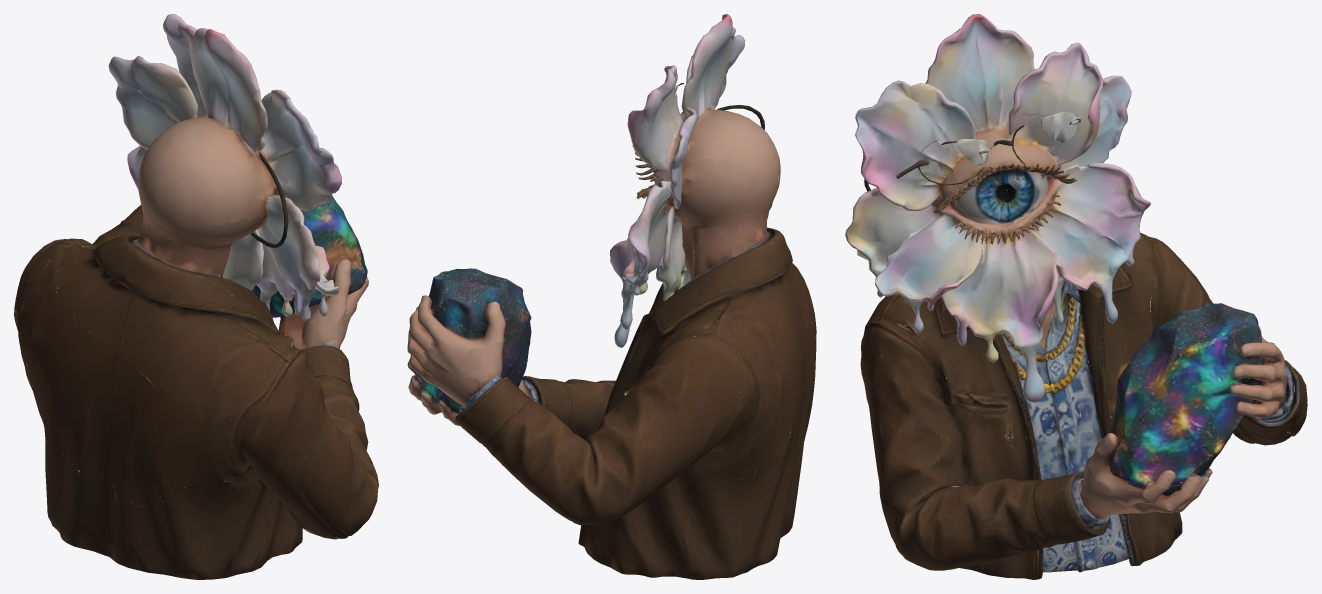
The model's file is jeweler.glb.
The picture shows the model from 3 angles, left to right: view 1: azimuth 30°, elevation 25°; view 2: azimuth 150°, elevation 25°; view 3: azimuth 270°, elevation 25°; orthographic projection. The views are drawn at different scales.
Parts seen in each view (by area): view 1: tripo_node_296df286-3b29-40c3-b694-67faf01e768e; view 2: tripo_node_296df286-3b29-40c3-b694-67faf01e768e; view 3: tripo_node_296df286-3b29-40c3-b694-67faf01e768e.
Part boxes in pixels (x1,y1,x2,y2): tripo_node_296df286-3b29-40c3-b694-67faf01e768e: (14, 14, 378, 579); tripo_node_296df286-3b29-40c3-b694-67faf01e768e: (407, 14, 816, 579); tripo_node_296df286-3b29-40c3-b694-67faf01e768e: (845, 14, 1307, 579).
Bounding box in the file's own units: 0.724 × 1 × 0.8134.
Materials: 1 (1 with a texture image).
